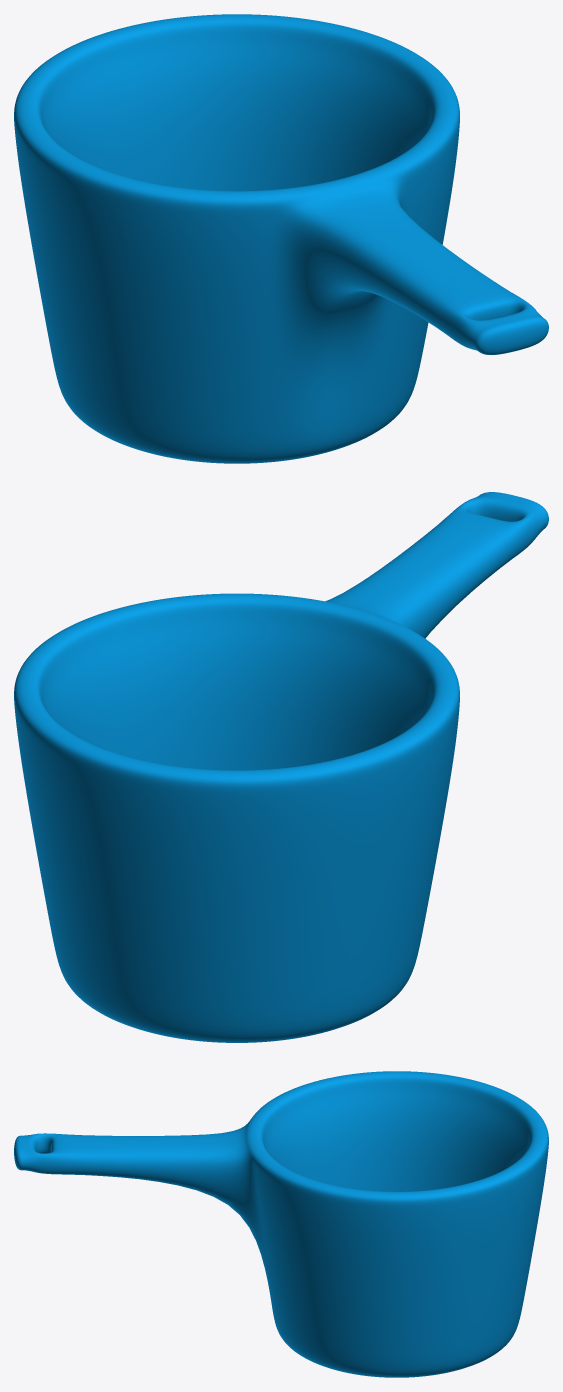
Rendered from tabo.fbx.
The picture shows the model from 3 angles, top to bottom: view 1: azimuth 30°, elevation 25°; view 2: azimuth 150°, elevation 25°; view 3: azimuth 270°, elevation 25°; orthographic projection. The views are drawn at different scales.
Visible parts, largest first — view 1: Circle; view 2: Circle; view 3: Circle.
Part boxes in pixels (x1,y1,x2,y2): Circle: (14, 14, 548, 463); Circle: (14, 492, 548, 1042); Circle: (14, 1071, 548, 1377).
Size of the model in its own units: 242 by 177 by 425.
